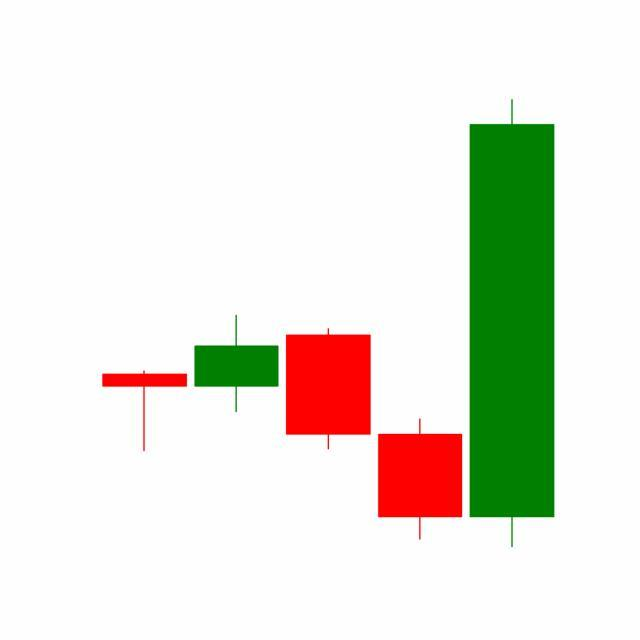Three Outside Up-Down: (190, 313, 467, 543)
